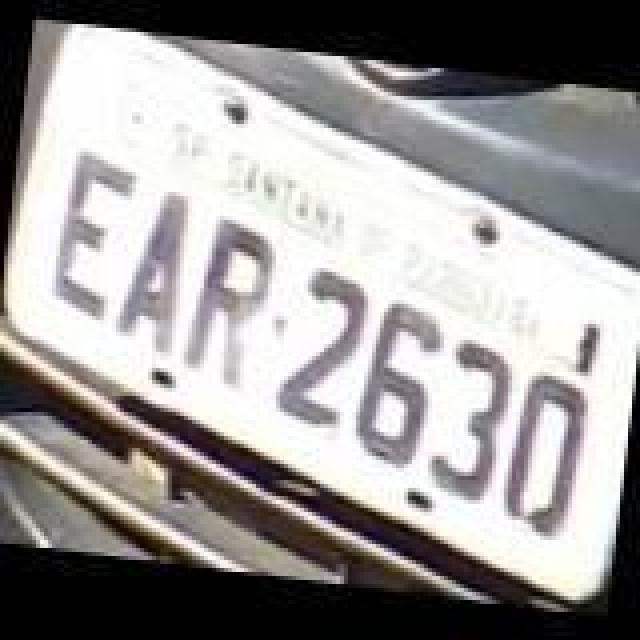2: (270, 260, 378, 444)
3: (422, 332, 522, 508)
6: (352, 292, 448, 476)
A: (104, 184, 200, 360)
E: (34, 142, 142, 322)
O: (492, 368, 596, 552)
R: (182, 212, 282, 396)
